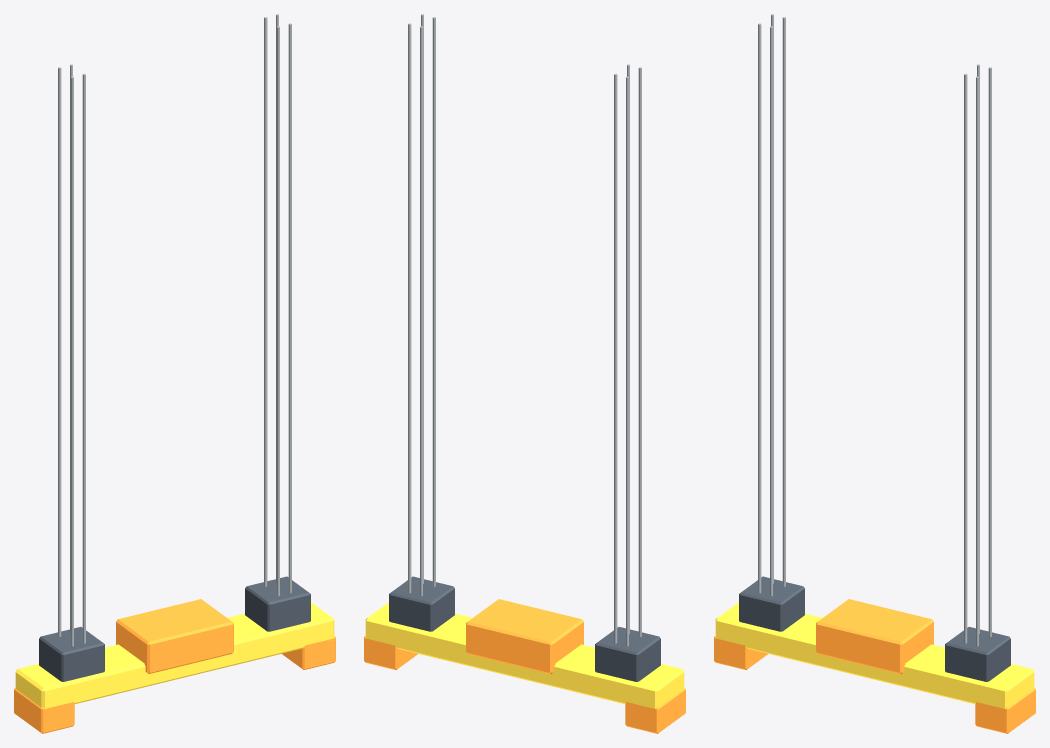
The model's file is rebar-gantry-hoist-v4-medium.glb.
3 renders of one model, left to right at view 1: azimuth 30°, elevation 25°; view 2: azimuth 150°, elevation 25°; view 3: azimuth 330°, elevation 25°, orthographic.
Visible parts, largest first — view 1: rebar-gantry-hoist-v4-high.glb-v5_bright_steel, rebar-gantry-hoist-v4-high.glb-v5_crane_orange, rebar-gantry-hoist-v4-high.glb-v5_crane_yellow, rebar-gantry-hoist-v4-high.glb-v5_heavy_gunmetal; view 2: rebar-gantry-hoist-v4-high.glb-v5_bright_steel, rebar-gantry-hoist-v4-high.glb-v5_crane_orange, rebar-gantry-hoist-v4-high.glb-v5_crane_yellow, rebar-gantry-hoist-v4-high.glb-v5_heavy_gunmetal; view 3: rebar-gantry-hoist-v4-high.glb-v5_bright_steel, rebar-gantry-hoist-v4-high.glb-v5_crane_orange, rebar-gantry-hoist-v4-high.glb-v5_crane_yellow, rebar-gantry-hoist-v4-high.glb-v5_heavy_gunmetal.
Part boxes in pixels (left/top/right/bottom): rebar-gantry-hoist-v4-high.glb-v5_bright_steel: left=58, top=14, right=291, bottom=646; rebar-gantry-hoist-v4-high.glb-v5_crane_orange: left=14, top=599, right=335, bottom=733; rebar-gantry-hoist-v4-high.glb-v5_crane_yellow: left=15, top=602, right=334, bottom=708; rebar-gantry-hoist-v4-high.glb-v5_heavy_gunmetal: left=39, top=576, right=310, bottom=681; rebar-gantry-hoist-v4-high.glb-v5_bright_steel: left=408, top=14, right=641, bottom=646; rebar-gantry-hoist-v4-high.glb-v5_crane_orange: left=364, top=599, right=685, bottom=733; rebar-gantry-hoist-v4-high.glb-v5_crane_yellow: left=365, top=602, right=684, bottom=708; rebar-gantry-hoist-v4-high.glb-v5_heavy_gunmetal: left=389, top=576, right=660, bottom=681; rebar-gantry-hoist-v4-high.glb-v5_bright_steel: left=758, top=14, right=991, bottom=646; rebar-gantry-hoist-v4-high.glb-v5_crane_orange: left=714, top=599, right=1035, bottom=733; rebar-gantry-hoist-v4-high.glb-v5_crane_yellow: left=715, top=602, right=1034, bottom=708; rebar-gantry-hoist-v4-high.glb-v5_heavy_gunmetal: left=739, top=576, right=1010, bottom=681.
Bounding box in the file's own units: 7.45 × 15.51 × 1.45.
